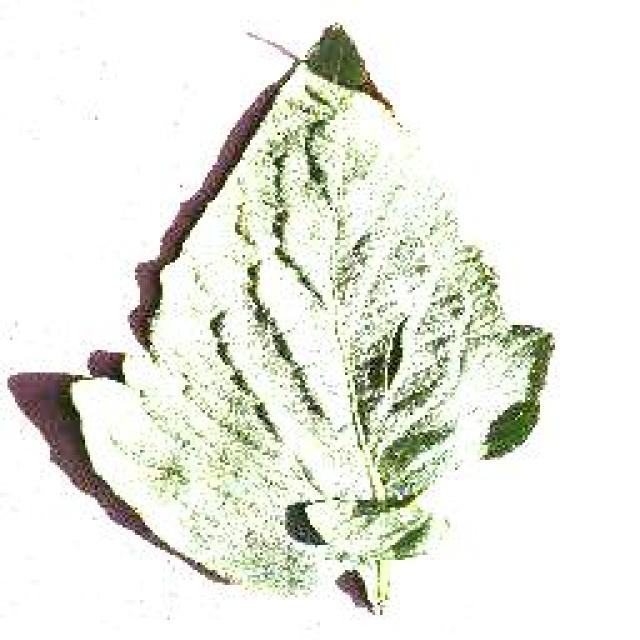Tomato___Target_Spot: (70, 25, 550, 610)
